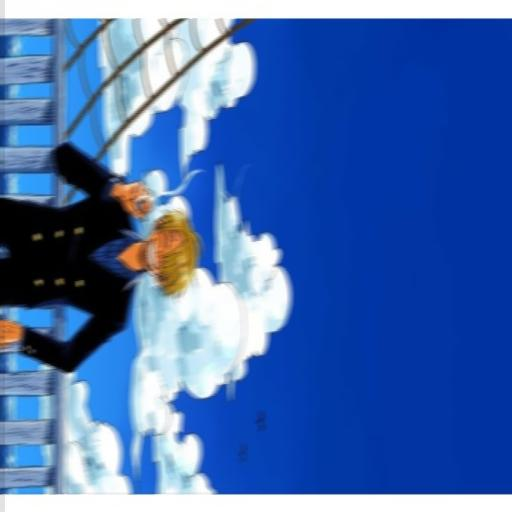sanji: (133, 192, 210, 310)
